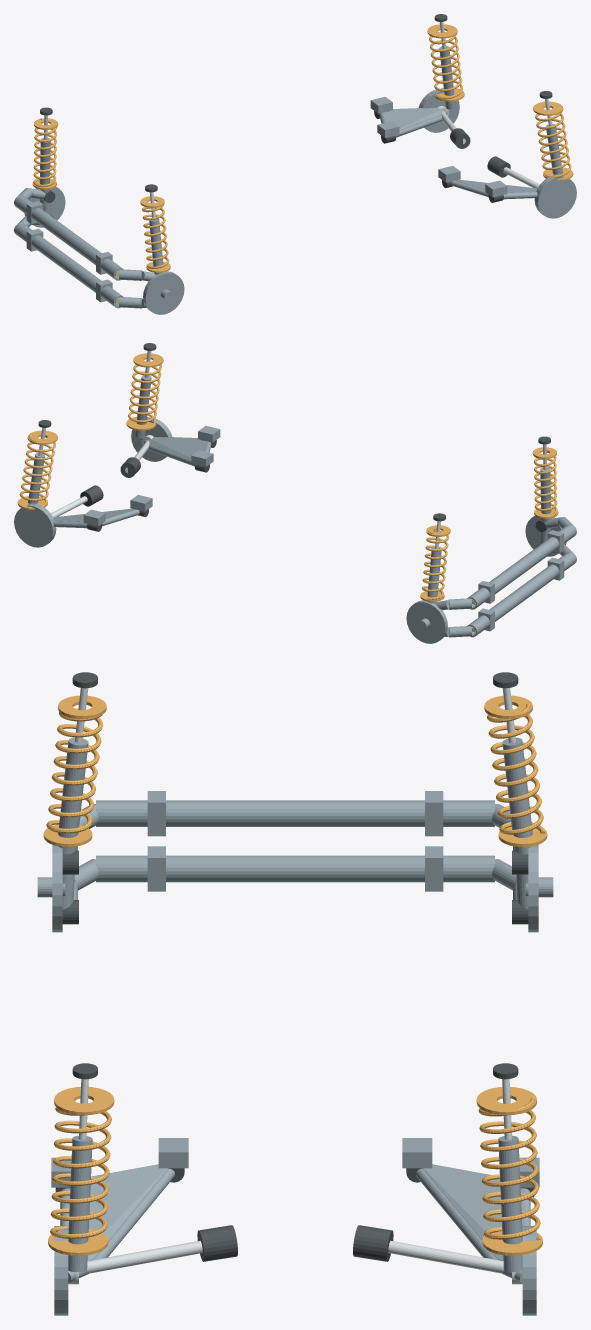
File: stock-suspension.glb
The picture shows the model from 3 angles, top to bottom: view 1: azimuth 30°, elevation 25°; view 2: azimuth 150°, elevation 25°; view 3: azimuth 270°, elevation 25°; orthographic projection. The views are drawn at different scales.
Parts seen in each view (by area): view 1: Передняя ось · верхняя труба, Передняя ось · нижняя труба, Задняя правая · пружина, Задняя левая · пружина, Задний барабан / ступица · правая, Передний барабан / ступица · правая, Задний сварной рычаг · левая, Передняя левая · пружина, Передняя правая · пружина, Задний сварной рычаг · правая, Задний барабан / ступица · левая, Задняя левая · амортизатор (+6 smaller); view 2: Передняя ось · верхняя труба, Передняя ось · нижняя труба, Задняя правая · пружина, Задняя левая · пружина, Задний барабан / ступица · левая, Передний барабан / ступица · левая, Задний сварной рычаг · правая, Передняя правая · пружина, Передняя левая · пружина, Задний сварной рычаг · левая, Задний барабан / ступица · правая, Задняя правая · амортизатор (+6 smaller); view 3: Передняя ось · нижняя труба, Передняя ось · верхняя труба, Задняя правая · пружина, Задняя левая · пружина, Задний сварной рычаг · левая, Задний сварной рычаг · правая, Передняя правая · пружина, Передняя левая · пружина, Задняя левая · амортизатор, Задняя правая · амортизатор, Передние кронштейны · правая, Передние кронштейны · левая (+12 smaller).
Boxes of the visible parts, left/top/right/bottom form: Передняя ось · верхняя труба: left=14, top=195, right=123, bottom=280; Передняя ось · нижняя труба: left=14, top=223, right=123, bottom=308; Задняя правая · пружина: left=533, top=101, right=573, bottom=180; Задняя левая · пружина: left=427, top=24, right=464, bottom=101; Задний барабан / ступица · правая: left=534, top=174, right=576, bottom=218; Передний барабан / ступица · правая: left=143, top=271, right=184, bottom=314; Задний сварной рычаг · левая: left=379, top=108, right=449, bottom=137; Передняя левая · пружина: left=32, top=118, right=58, bottom=189; Передняя правая · пружина: left=140, top=196, right=170, bottom=272; Задний сварной рычаг · правая: left=451, top=179, right=537, bottom=199; Задний барабан / ступица · левая: left=418, top=88, right=459, bottom=132; Задняя левая · амортизатор: left=439, top=45, right=455, bottom=109; Передняя ось · верхняя труба: left=467, top=524, right=576, bottom=609; Передняя ось · нижняя труба: left=467, top=552, right=576, bottom=637; Задняя правая · пружина: left=126, top=353, right=163, bottom=430; Задняя левая · пружина: left=17, top=430, right=57, bottom=509; Задний барабан / ступица · левая: left=14, top=503, right=56, bottom=547; Передний барабан / ступица · левая: left=406, top=600, right=447, bottom=643; Задний сварной рычаг · правая: left=141, top=437, right=211, bottom=466; Передняя правая · пружина: left=532, top=447, right=558, bottom=518; Передняя левая · пружина: left=420, top=525, right=450, bottom=601; Задний сварной рычаг · левая: left=53, top=508, right=139, bottom=528; Задний барабан / ступица · правая: left=131, top=417, right=172, bottom=461; Задняя правая · амортизатор: left=135, top=375, right=151, bottom=438; Передняя ось · нижняя труба: left=96, top=855, right=494, bottom=882; Передняя ось · верхняя труба: left=96, top=800, right=494, bottom=826; Задняя правая · пружина: left=48, top=1087, right=114, bottom=1255; Задняя левая · пружина: left=476, top=1087, right=542, bottom=1255; Задний сварной рычаг · левая: left=416, top=1164, right=530, bottom=1282; Задний сварной рычаг · правая: left=60, top=1164, right=174, bottom=1282; Передняя правая · пружина: left=43, top=695, right=106, bottom=846; Передняя левая · пружина: left=484, top=695, right=547, bottom=846; Задняя левая · амортизатор: left=498, top=1135, right=522, bottom=1272; Задняя правая · амортизатор: left=68, top=1135, right=92, bottom=1272; Передние кронштейны · правая: left=147, top=791, right=165, bottom=891; Передние кронштейны · левая: left=425, top=791, right=443, bottom=891.
Size of the model in its own units: 2.49 by 0.644 by 1.23.
